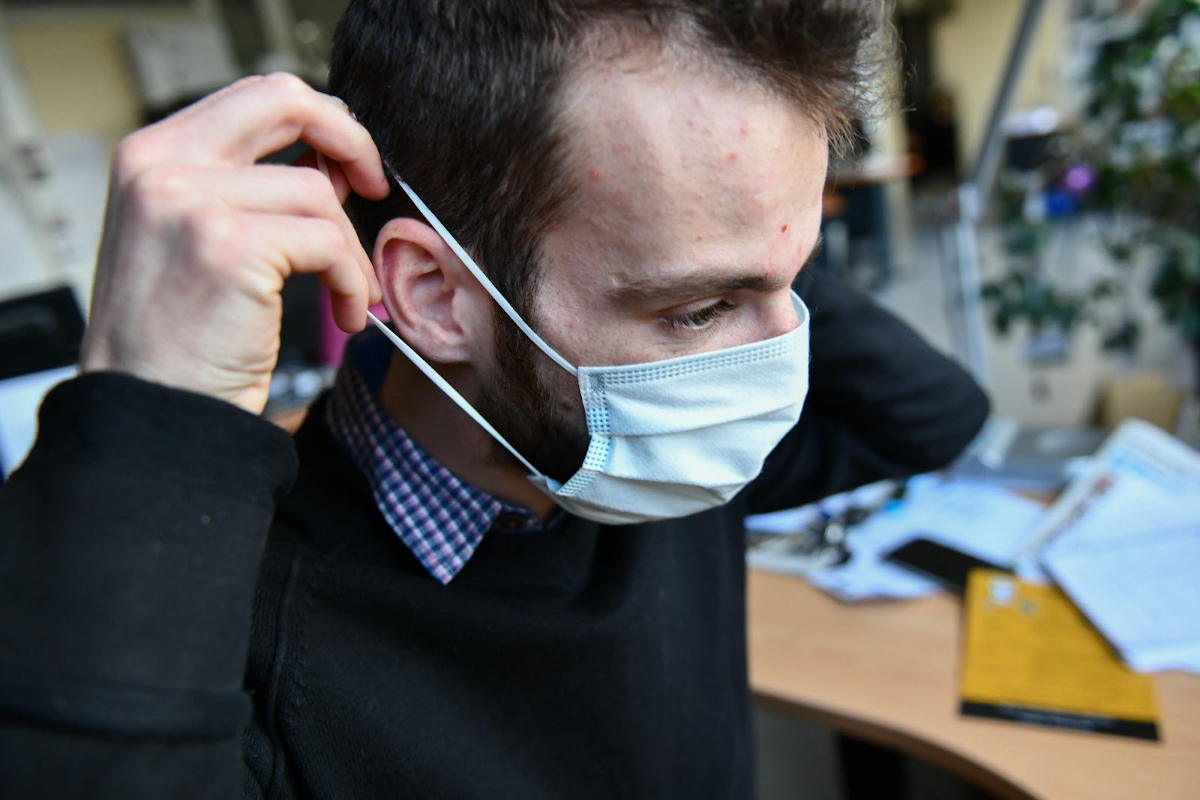with_mask: (454, 137, 849, 565)
